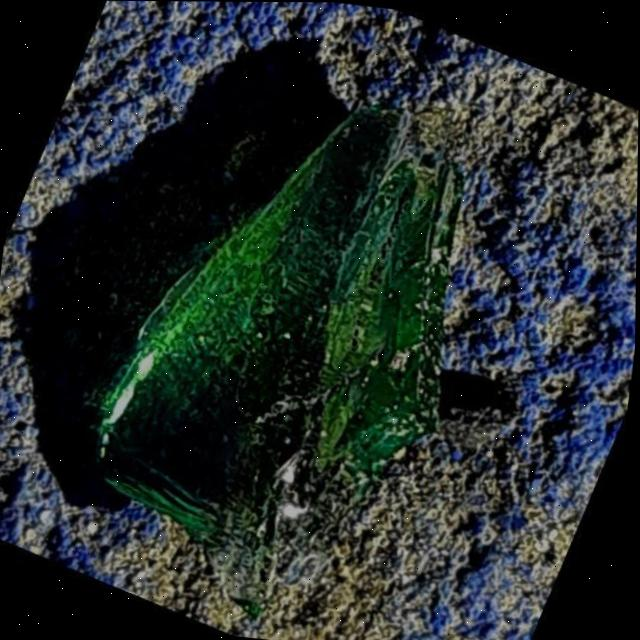Dry: (91, 108, 458, 591)
